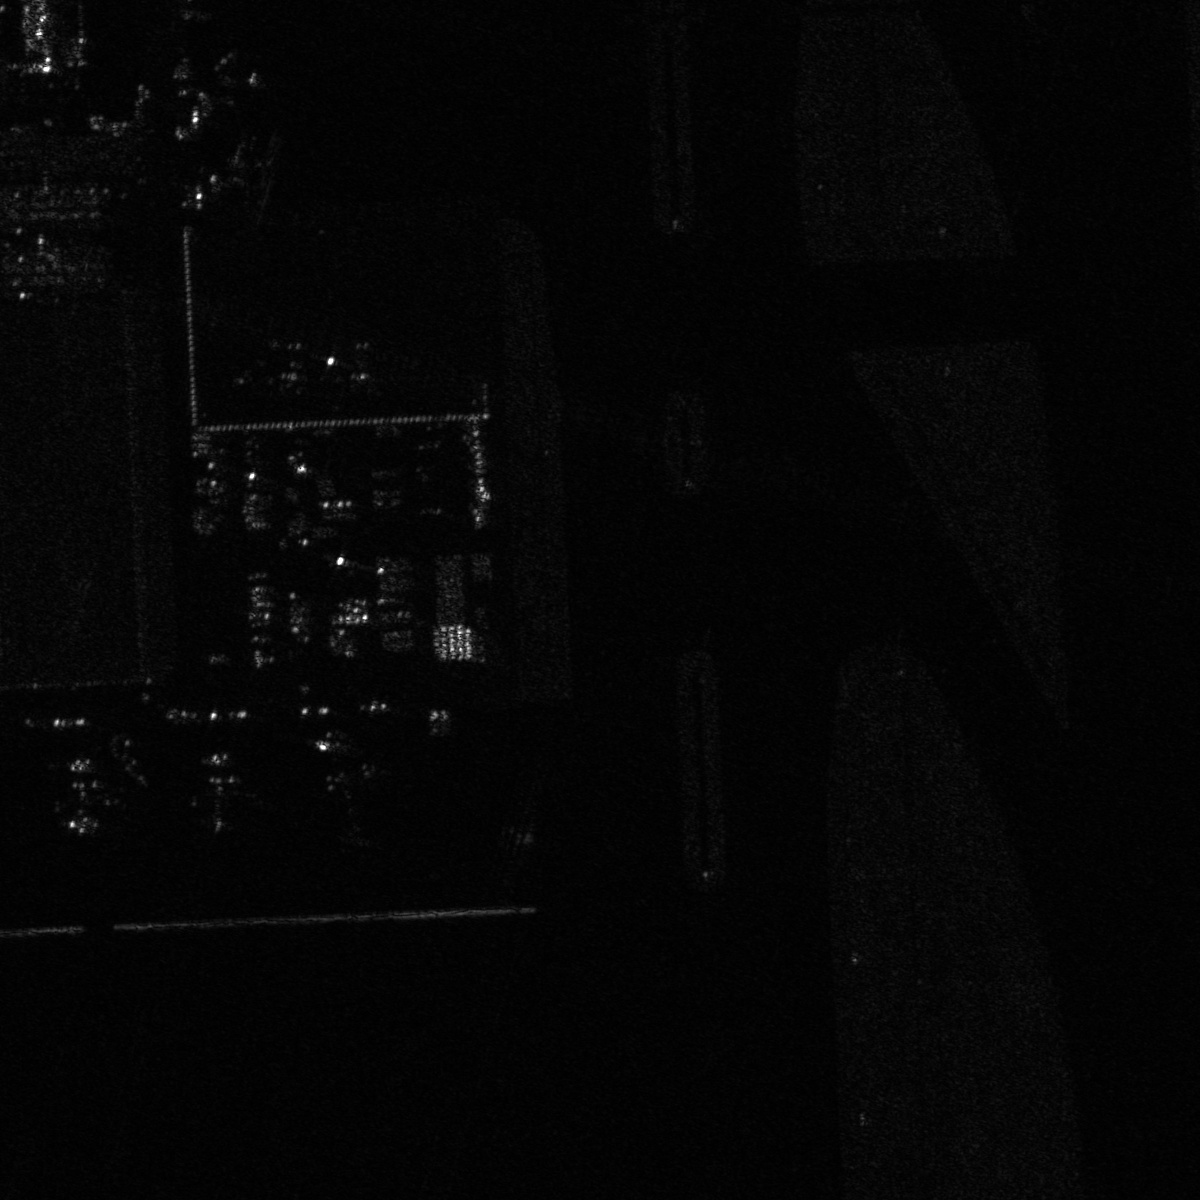A220: (174, 47, 266, 110)
Boeing737: (311, 730, 388, 842), (184, 749, 256, 840)
other: (51, 757, 124, 838)
